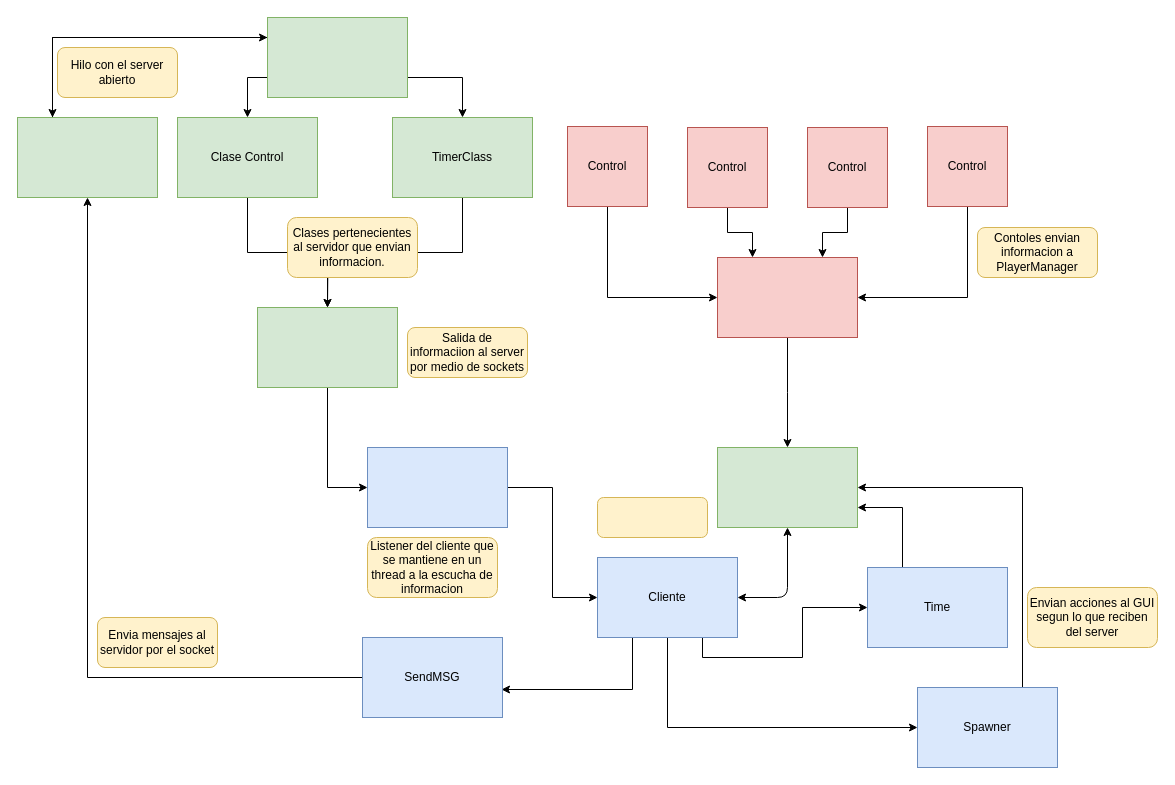
Some shapes in this 1175 by 785 pixel diagram are drawn without their labels. The shapes that lost their labels are listed below. From the top down, each one's centre as x and y in pixels, then its label:
At (x=337, y=57): "Servidor en Java".
At (x=87, y=157): "StartServer".
At (x=787, y=297): "PlayerManager".
At (x=327, y=347): "SalidaMSG".
At (x=437, y=487): "Listener".
At (x=787, y=487): "GUI".
At (x=652, y=517): "Envia y recibe info del cliente".
